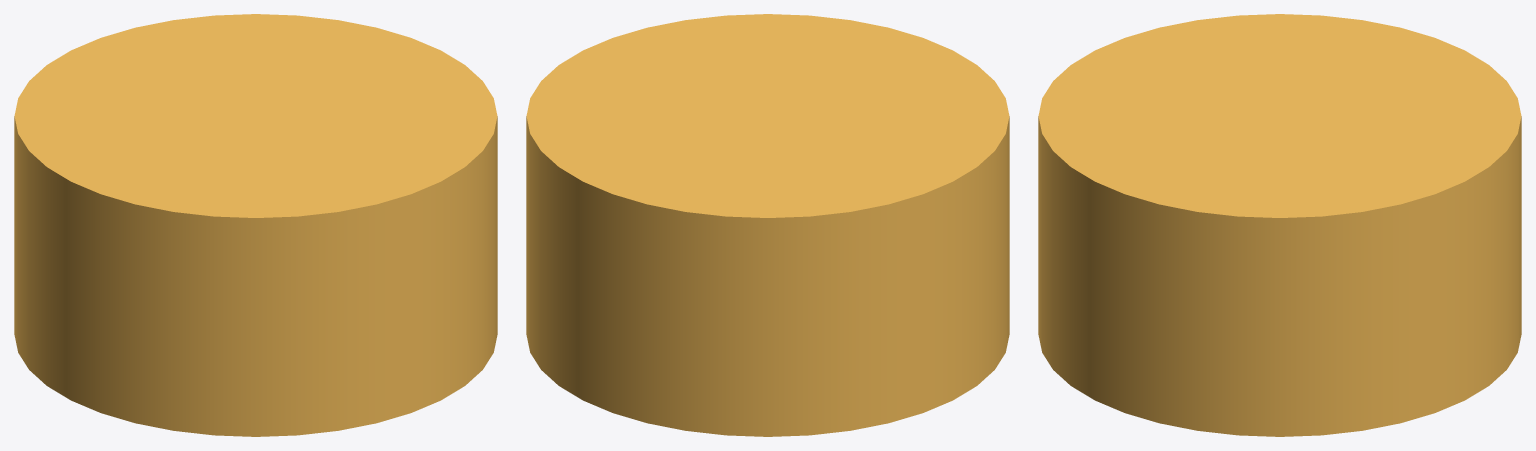
The picture shows the model from 3 angles, left to right: view 1: azimuth 30°, elevation 25°; view 2: azimuth 150°, elevation 25°; view 3: azimuth 270°, elevation 25°; orthographic projection.
Bounding box in the file's own units: 1 × 0.5 × 1.
